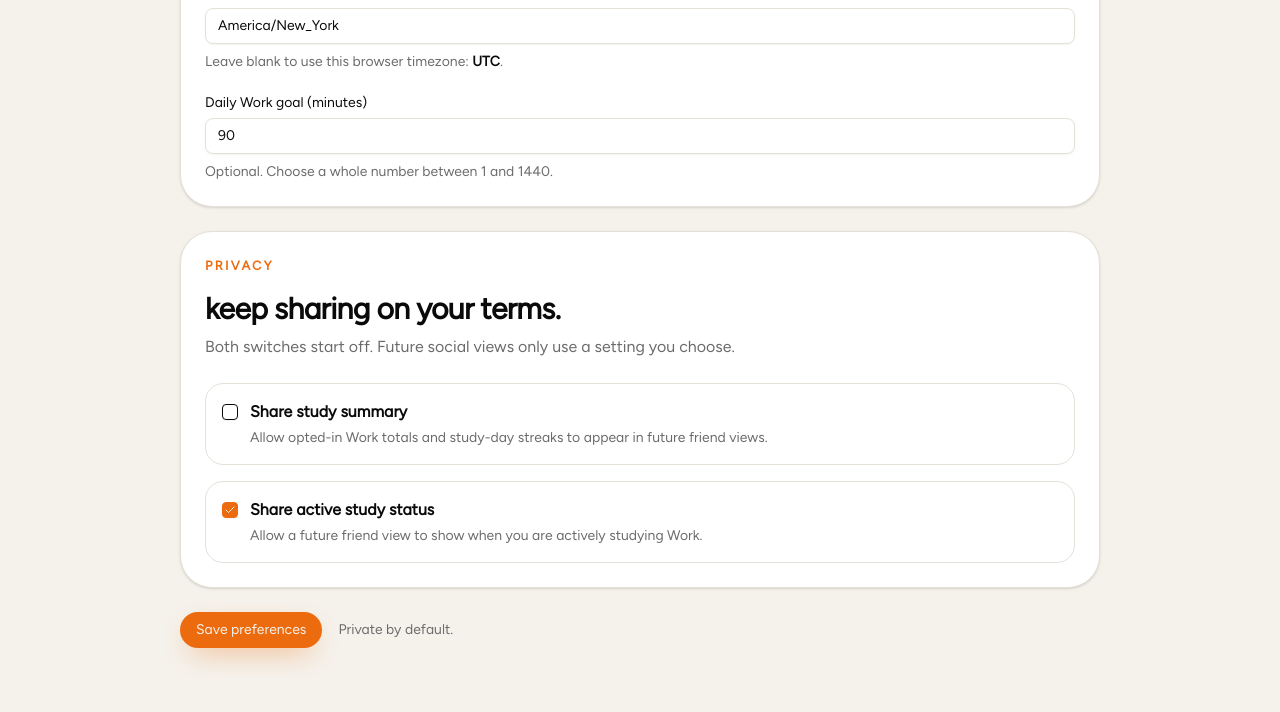
Test: SettingsPage › resets the saved state when a field changes
The width and height of the screenshot is (1280, 712).
(page scrolled)
Check: the field showing "America/New_York" is shown, box [205,8,1075,44]
Click the button "Save preferences": (251, 630) [180,612,322,648]
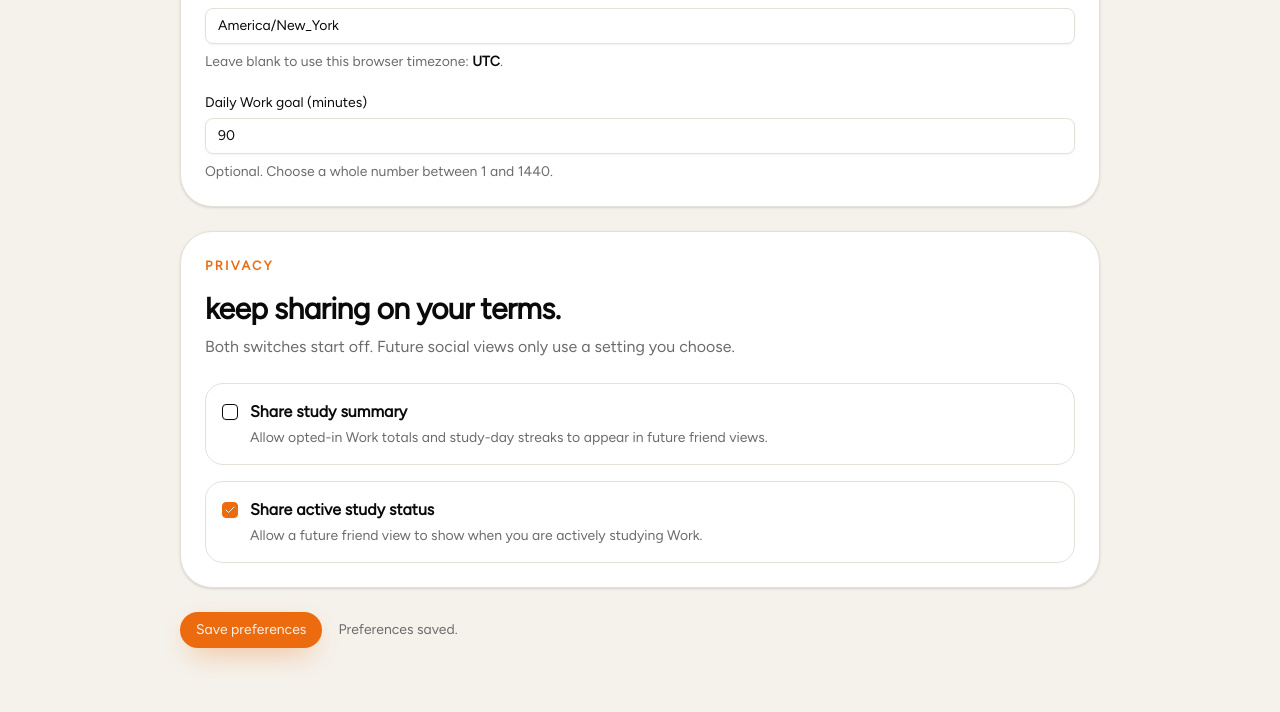
Check: the text "Preferences saved." is shown, box [338,620,458,640]
Replace the text in the field labelled "Saved timezone" with "Europe/Berlin": (640, 26) [205,8,1075,44]
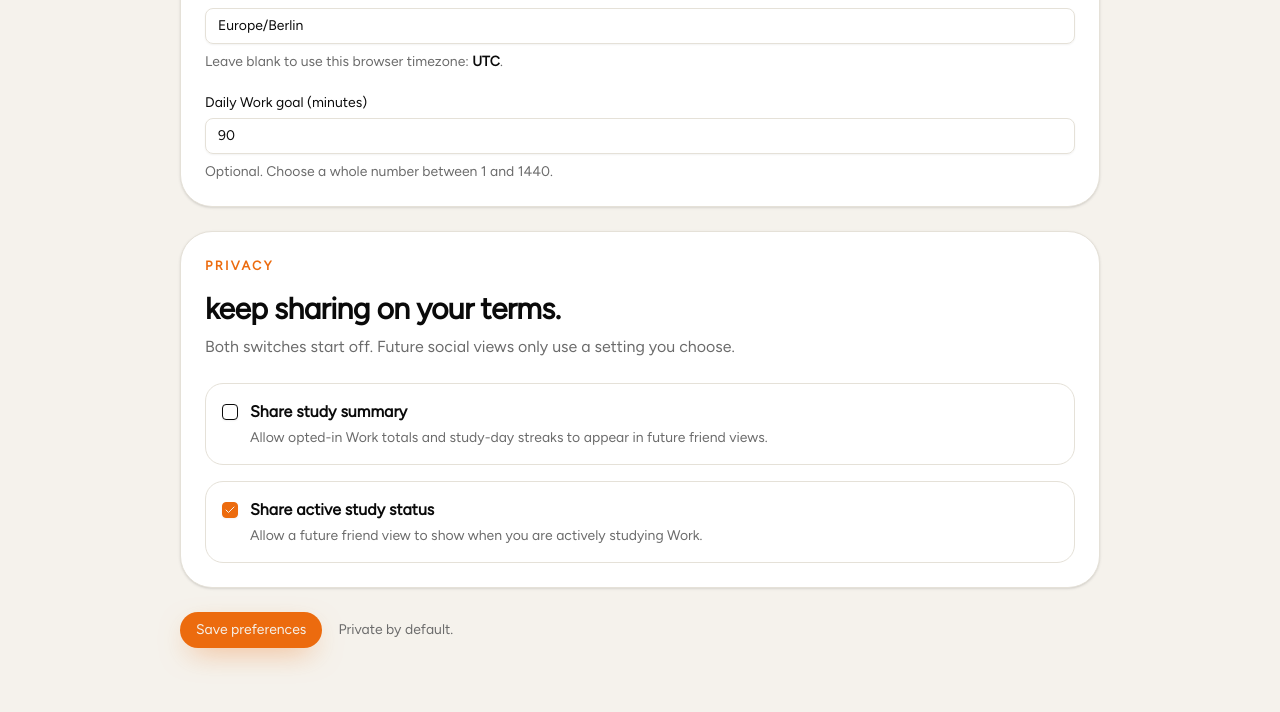
Check: the text "Preferences saved" is gone
